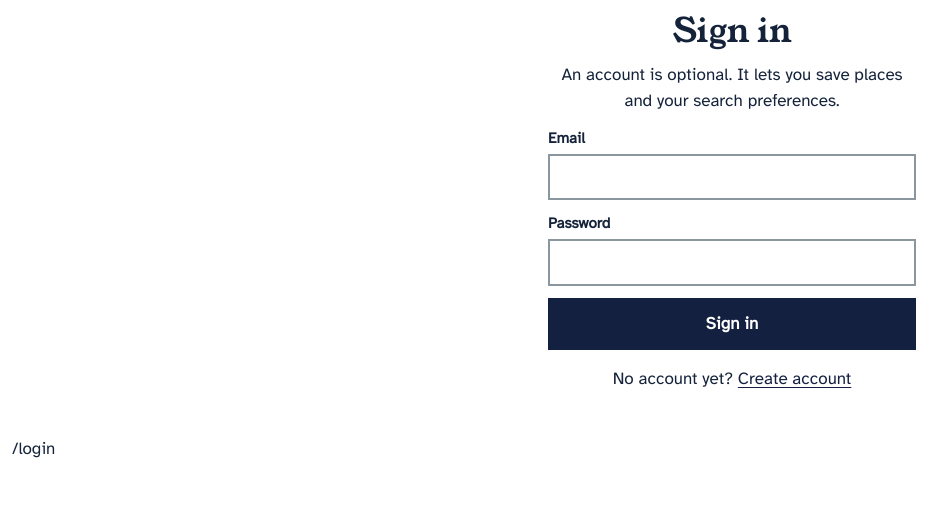
Test: auth forms › shows a clear error for wrong credentials
Type "person@example.com" into the field labelled "Email".
click(732, 177); type("person@example.com")  # box x1=548 y1=154 x2=916 y2=200
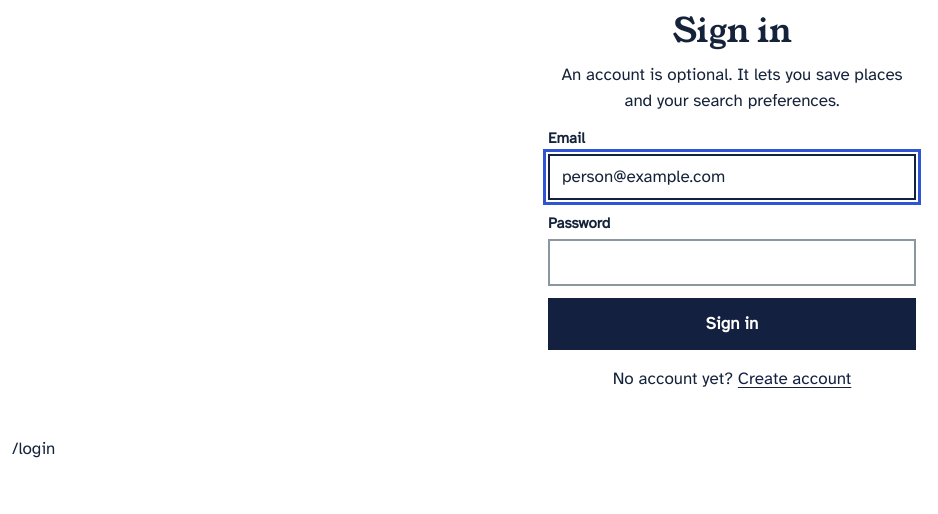
Type "wrong-password" into the password field labelled "Password".
click(732, 263); type("wrong-password")  # box x1=548 y1=240 x2=916 y2=286
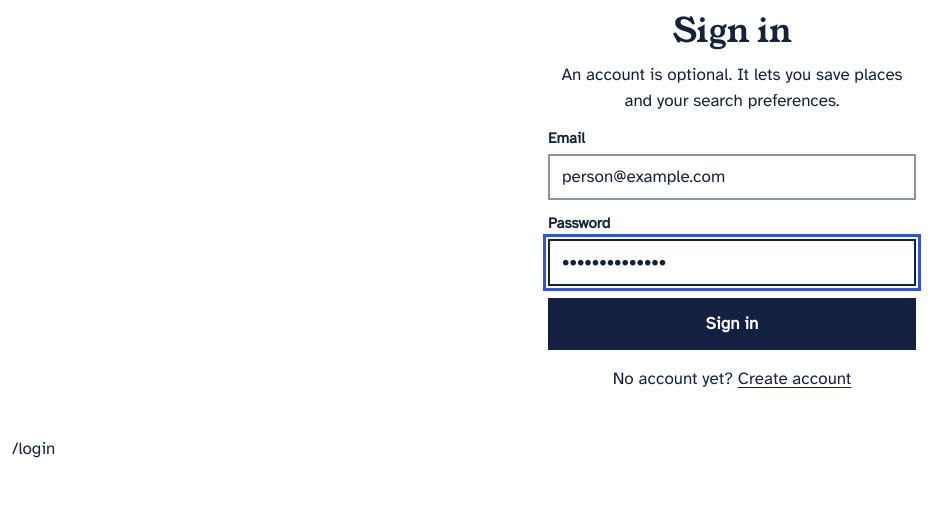
Click the button "Sign in".
click(732, 324)  # box x1=548 y1=298 x2=916 y2=350
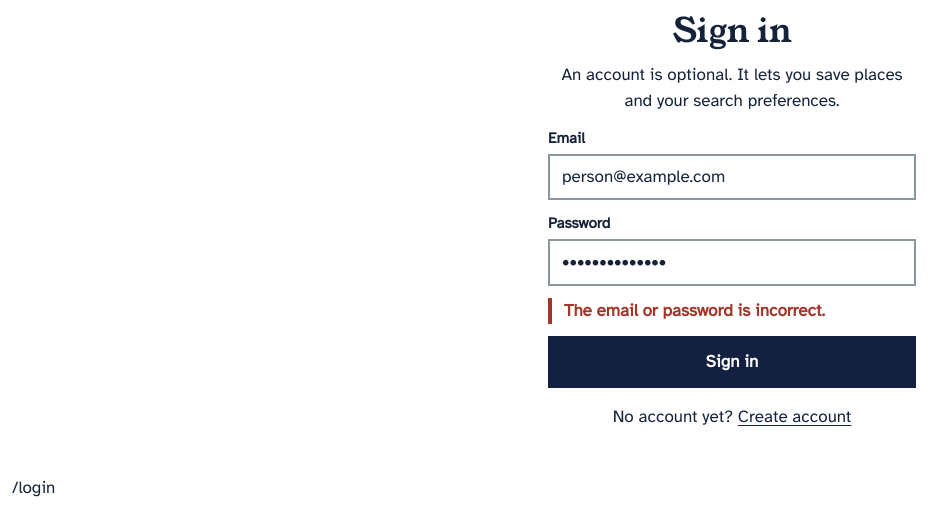
Expected: the text with test id "location" reads "/login", x1=12 y1=476 x2=55 y2=498
Now the message reads "The email or password is incorrect.", box x1=564 y1=300 x2=825 y2=321
